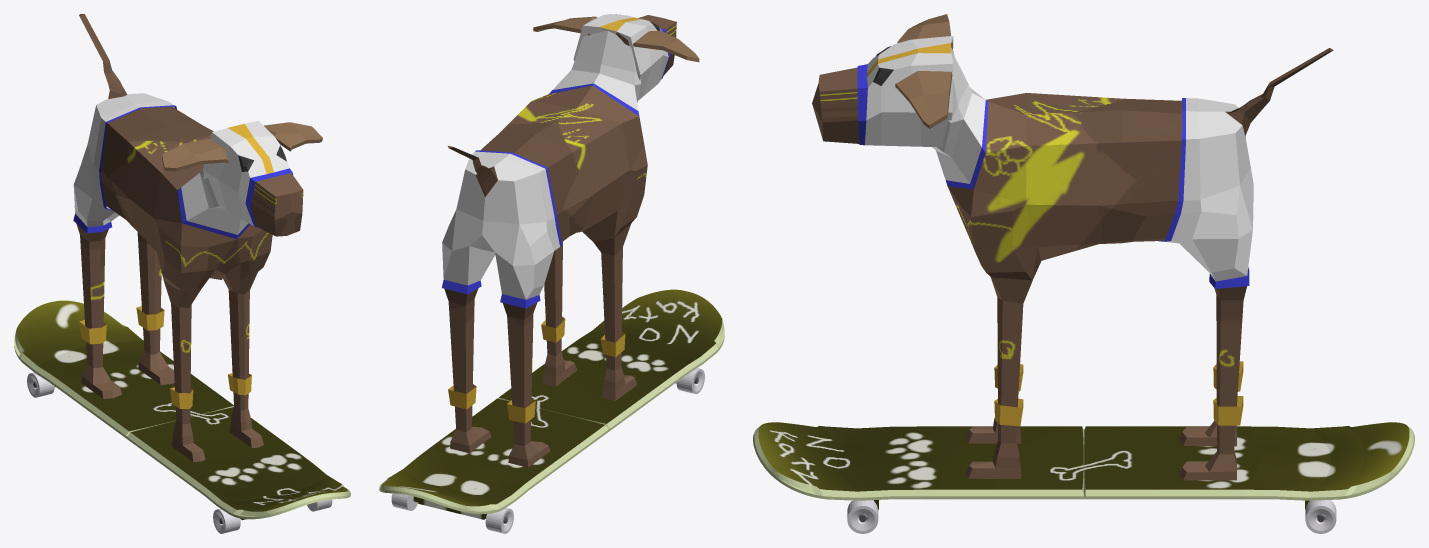
File: dog_like_6b.glb
3 views of the same model, side by side, from view 1: azimuth 30°, elevation 25°; view 2: azimuth 150°, elevation 25°; view 3: azimuth 270°, elevation 25° (orthographic). The views are drawn at different scales.
Visible parts, largest first — view 1: Cube.012, Cube.014, Cube.013; view 2: Cube.012, Cube.014, Cube.013; view 3: Cube.012, Cube.014, Cube.013.
Boxes of the visible parts, left/top/right/bottom form: Cube.012: left=76, top=14, right=272, bottom=462; Cube.014: left=14, top=300, right=350, bottom=519; Cube.013: left=27, top=93, right=332, bottom=533; Cube.012: left=444, top=31, right=647, bottom=467; Cube.014: left=379, top=289, right=724, bottom=514; Cube.013: left=391, top=14, right=704, bottom=533; Cube.012: left=932, top=47, right=1333, bottom=480; Cube.014: left=753, top=422, right=1414, bottom=500; Cube.013: left=812, top=14, right=1336, bottom=533.
Size of the model in its own units: 3.58 by 7.95 by 10.53.
11 materials, 2 textured.
